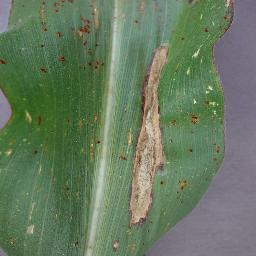Corn_Blight: (131, 106, 167, 194), (137, 41, 174, 106), (77, 0, 104, 72), (127, 193, 154, 228), (217, 0, 240, 41), (204, 82, 225, 109), (67, 112, 100, 128), (209, 42, 221, 82), (86, 136, 101, 163), (50, 0, 77, 15), (175, 174, 189, 196), (40, 0, 49, 34), (213, 142, 225, 166), (138, 0, 163, 11), (4, 136, 15, 158), (55, 50, 69, 67), (189, 111, 203, 126), (166, 116, 181, 129), (21, 105, 33, 121), (192, 45, 203, 62), (34, 114, 46, 128), (38, 61, 50, 74), (69, 237, 82, 249), (26, 223, 38, 236), (65, 183, 74, 200), (111, 238, 120, 255), (118, 152, 129, 164), (0, 53, 10, 66), (7, 237, 19, 247), (28, 147, 39, 157), (185, 0, 201, 6), (55, 31, 64, 41), (36, 41, 46, 50), (203, 26, 214, 34), (179, 34, 191, 41), (187, 148, 200, 154), (132, 18, 142, 25), (166, 138, 177, 143)
